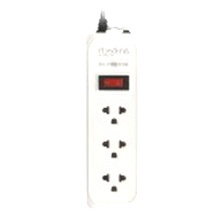three_eye_plug: (82, 27, 144, 212)
